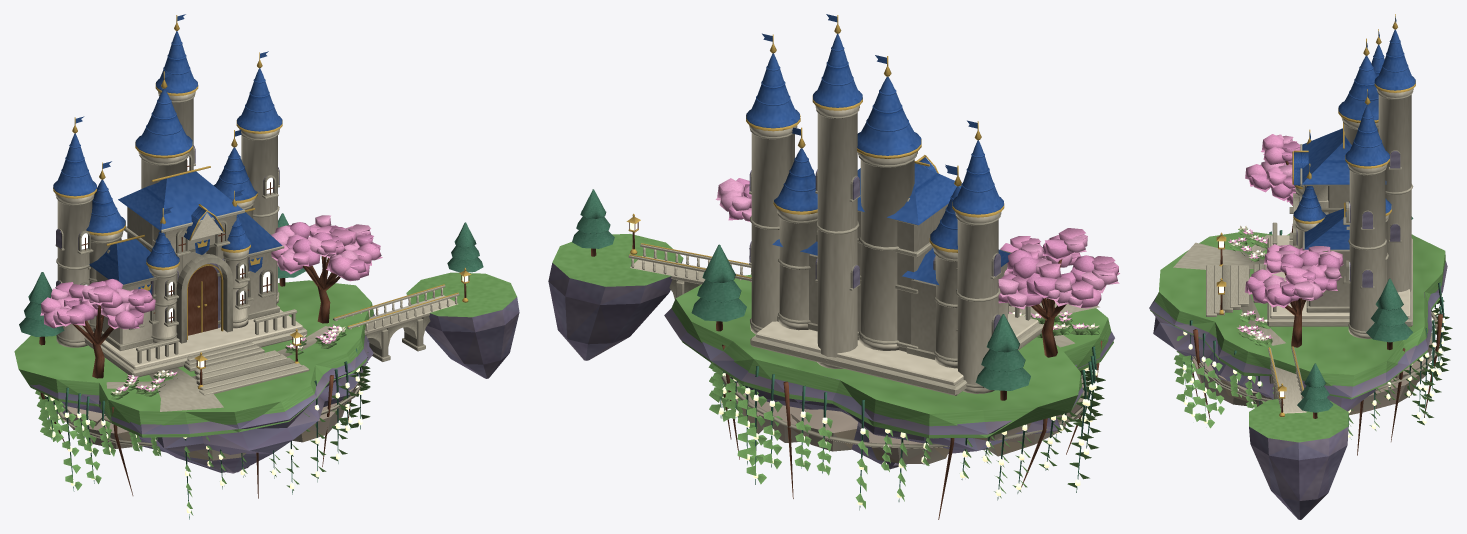
Rendered from royal-island-citadel-v2.glb.
3 renders of one model, left to right at view 1: azimuth 30°, elevation 25°; view 2: azimuth 150°, elevation 25°; view 3: azimuth 270°, elevation 25°, orthographic. The views are drawn at different scales.
Parts seen in each view (by area): view 1: royal-island-citadel-v2; view 2: royal-island-citadel-v2; view 3: royal-island-citadel-v2.
Boxes of the visible parts, box(x1,y1,x2,y2) form: royal-island-citadel-v2: box(14, 14, 519, 519); royal-island-citadel-v2: box(548, 14, 1119, 519); royal-island-citadel-v2: box(1149, 14, 1452, 519).
Size of the model in its own units: 19.1 by 16.39 by 11.02.
10 materials, 10 textured.
